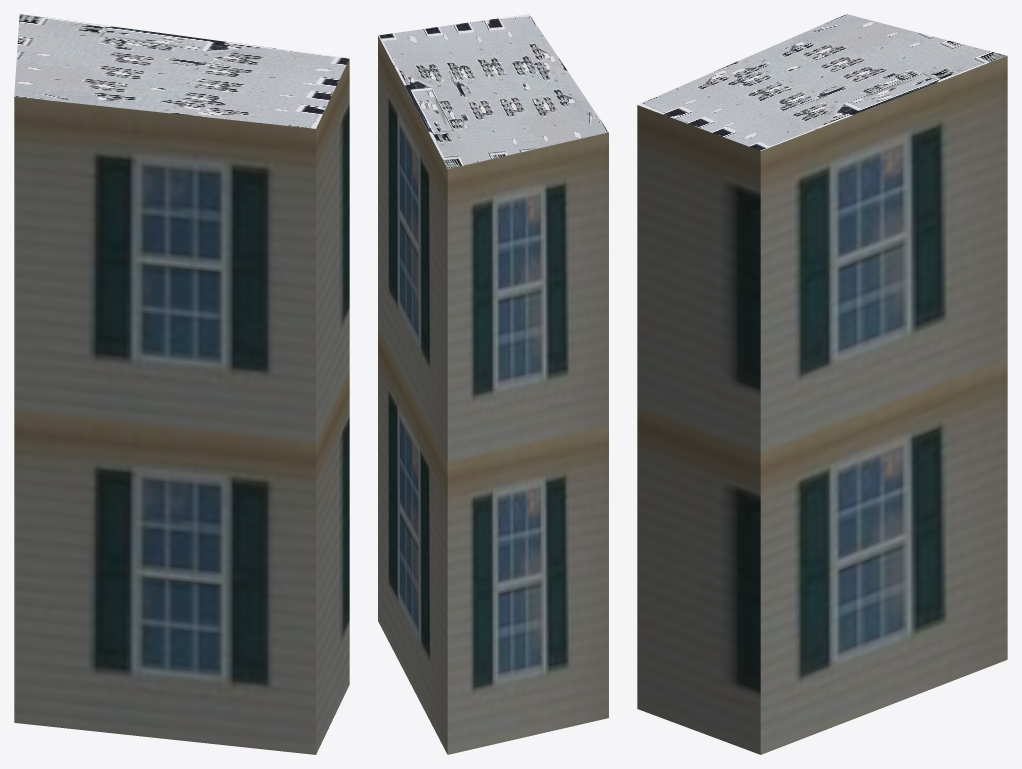
File: ResTex__3598.fbx
3 views of the same model, side by side, from view 1: azimuth 30°, elevation 25°; view 2: azimuth 150°, elevation 25°; view 3: azimuth 270°, elevation 25° (orthographic). The views are drawn at different scales.
Visible parts, largest first — view 1: CityEngineMaterial_7_m, CityEngineMaterial_8_m; view 2: CityEngineMaterial_7_m, CityEngineMaterial_8_m; view 3: CityEngineMaterial_7_m, CityEngineMaterial_8_m.
Boxes of the visible parts, x1,y1,x2,y2 form: CityEngineMaterial_7_m: (14, 59, 349, 754); CityEngineMaterial_8_m: (14, 14, 349, 128); CityEngineMaterial_7_m: (378, 36, 608, 754); CityEngineMaterial_8_m: (378, 14, 608, 168); CityEngineMaterial_7_m: (637, 56, 1007, 754); CityEngineMaterial_8_m: (638, 14, 1007, 150).
Size of the model in its own units: 2.92 by 6 by 3.33.
2 materials, 2 textured.
